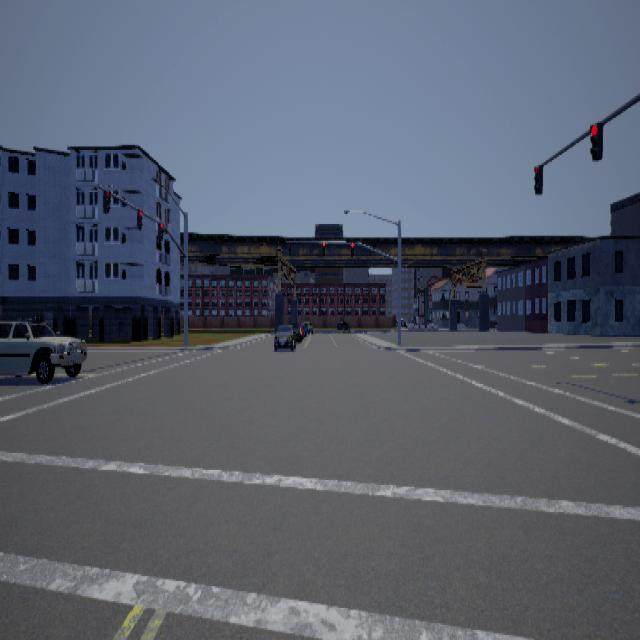red_light: (589, 120, 602, 160), (533, 163, 542, 194), (102, 189, 110, 212), (136, 207, 142, 229), (157, 221, 163, 239), (351, 241, 354, 256), (322, 241, 325, 255), (288, 241, 290, 254)
vehicle: (0, 315, 86, 382), (273, 320, 312, 350)
